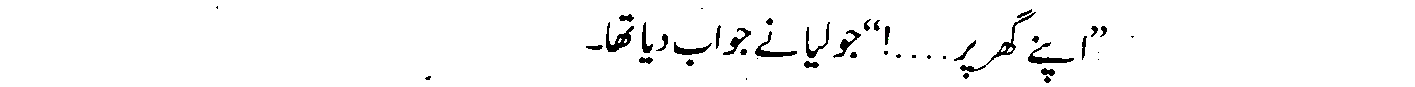bay_shosha: (670, 38, 712, 67)
